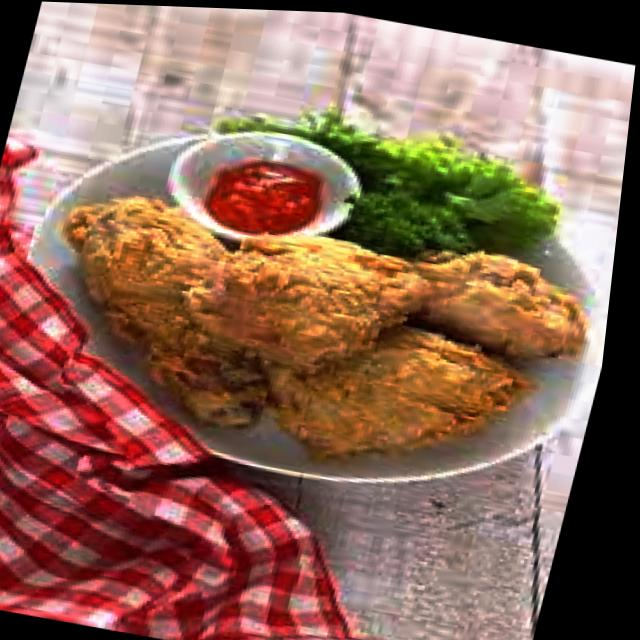fried_chicken: (25, 182, 317, 435), (259, 311, 541, 497), (177, 224, 442, 392), (353, 233, 608, 377)
